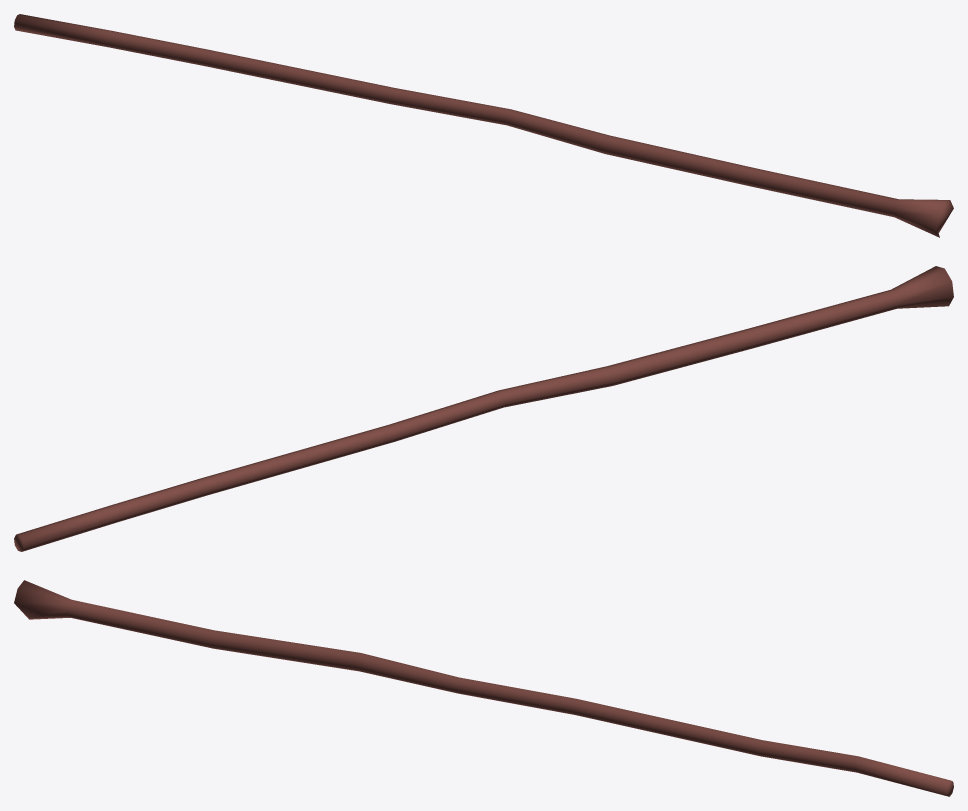
The model's file is woodStaff.glb.
The picture shows the model from 3 angles, top to bottom: view 1: azimuth 90°, elevation 25°; view 2: azimuth 150°, elevation 25°; view 3: azimuth 270°, elevation 25°; orthographic projection. The views are drawn at different scales.
Visible parts, largest first — view 1: wood; view 2: wood; view 3: wood.
Boxes of the visible parts, x1,y1,x2,y2 form: wood: (14,14,953,237); wood: (14,266,953,551); wood: (14,580,953,796).
Bounding box in the file's own units: 1.23 × 0.0991 × 2.4.
